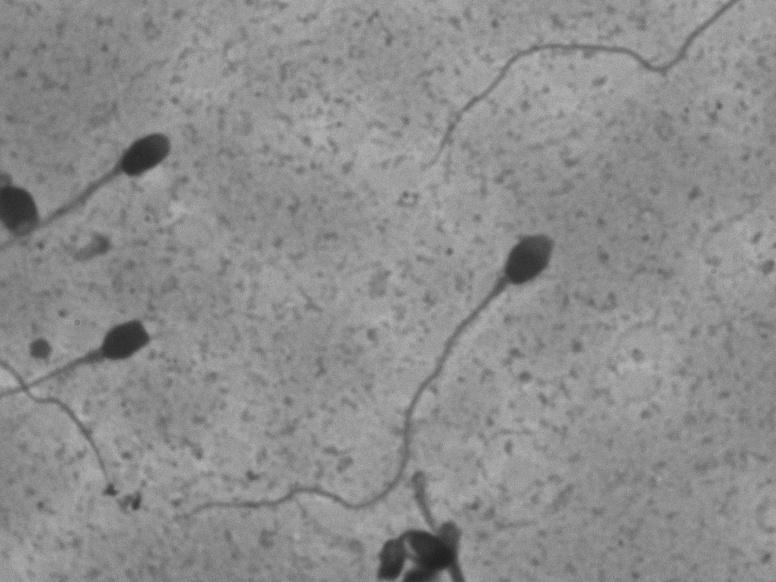Abnormal: (49, 92, 184, 217)
Normal: (186, 197, 578, 566)
